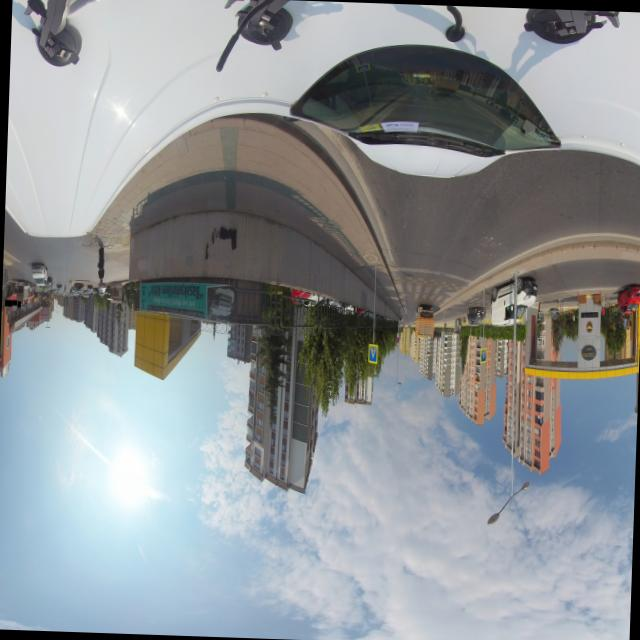SignStore: (4, 298, 11, 305), (11, 299, 16, 304), (16, 300, 19, 306)
